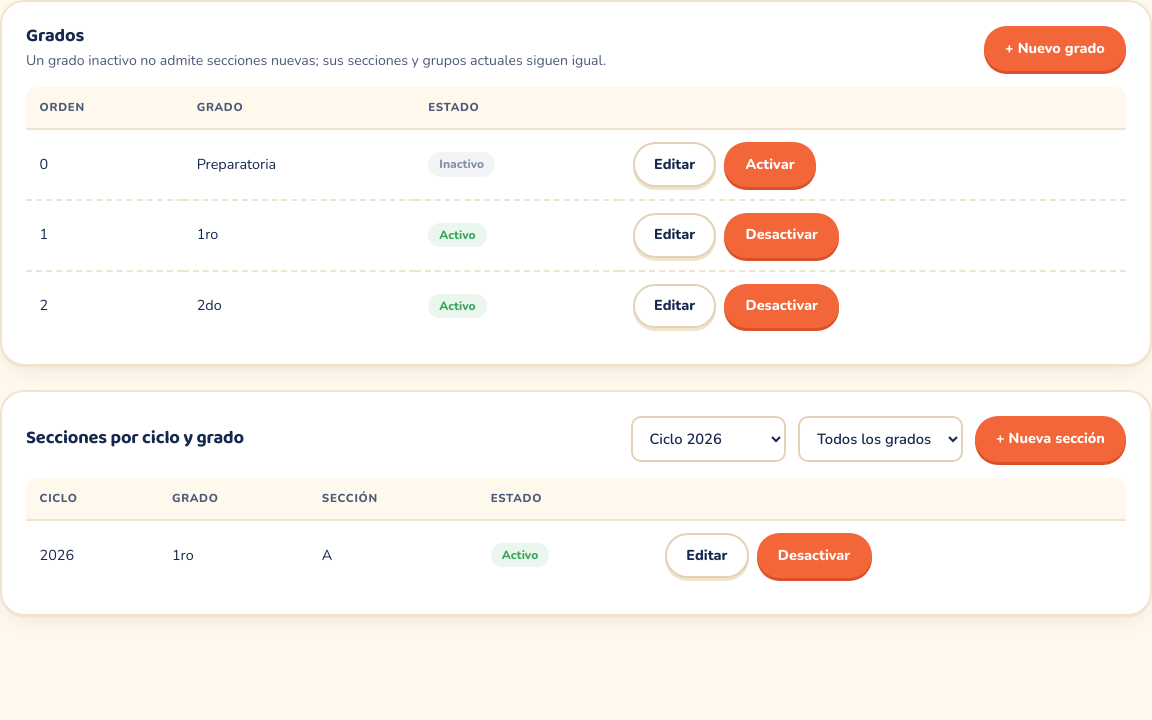
Test: SeccionesAdmin: grados y ciclo escolar › shows only the current ciclo's secciones by default
The width and height of the screenshot is (1152, 720).
Expected: the heading "Grados" is shown, [26,21,84,51]
Expected: the text "A" is shown, [308,521,477,590]
Select "Todos los ciclos" in the dropdown named "Filtrar por ciclo escolar" at [708, 439], box [631,416,786,462]
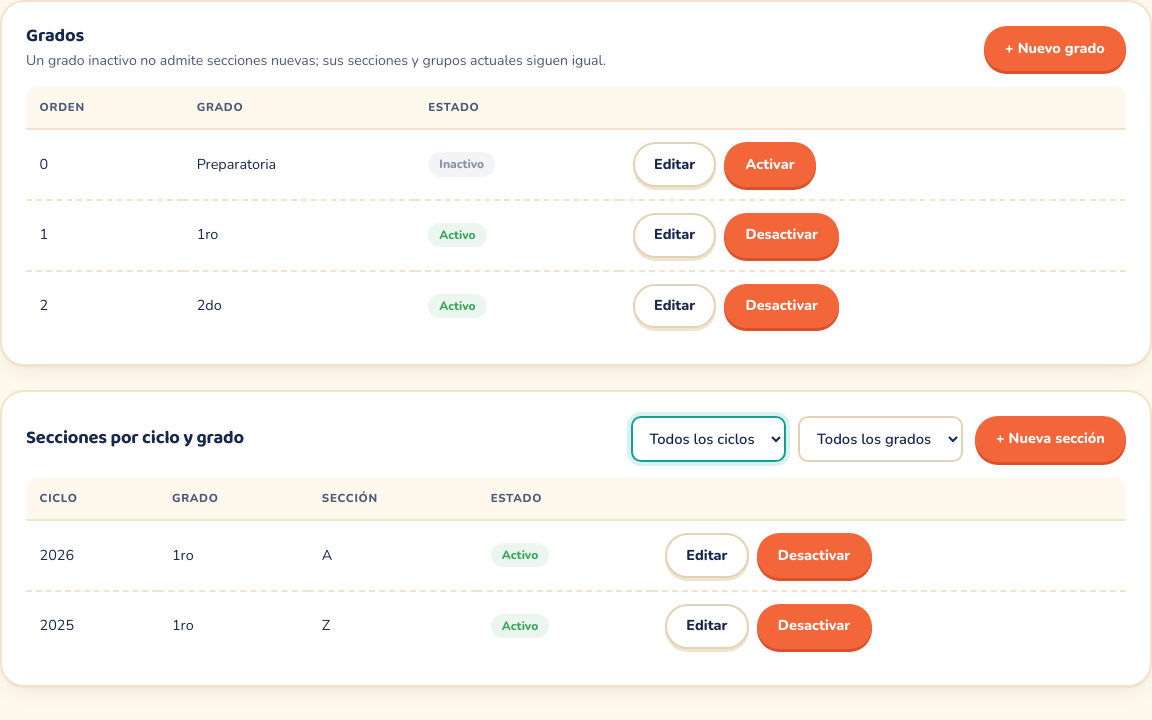
Now the text "Z" is shown, box [308,592,477,660]
